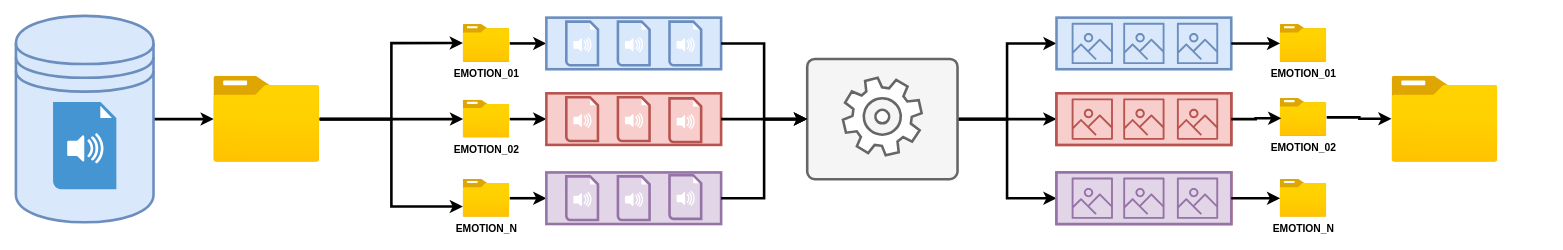
This 1563x250 diagram has some shape labels left out. The shapes that lost their labels are listed below. From the top down, each one's centre as x and y in pixels, then its label:
At point 266,119: "RE-STRUCTURED DATASET".
At point 881,118: "CUSTOM FEATURE EXTRACTION TO IMAGE CONVERTION".
At point 1444,119: "RE-STRUCTURED IMAGE DATASET".
